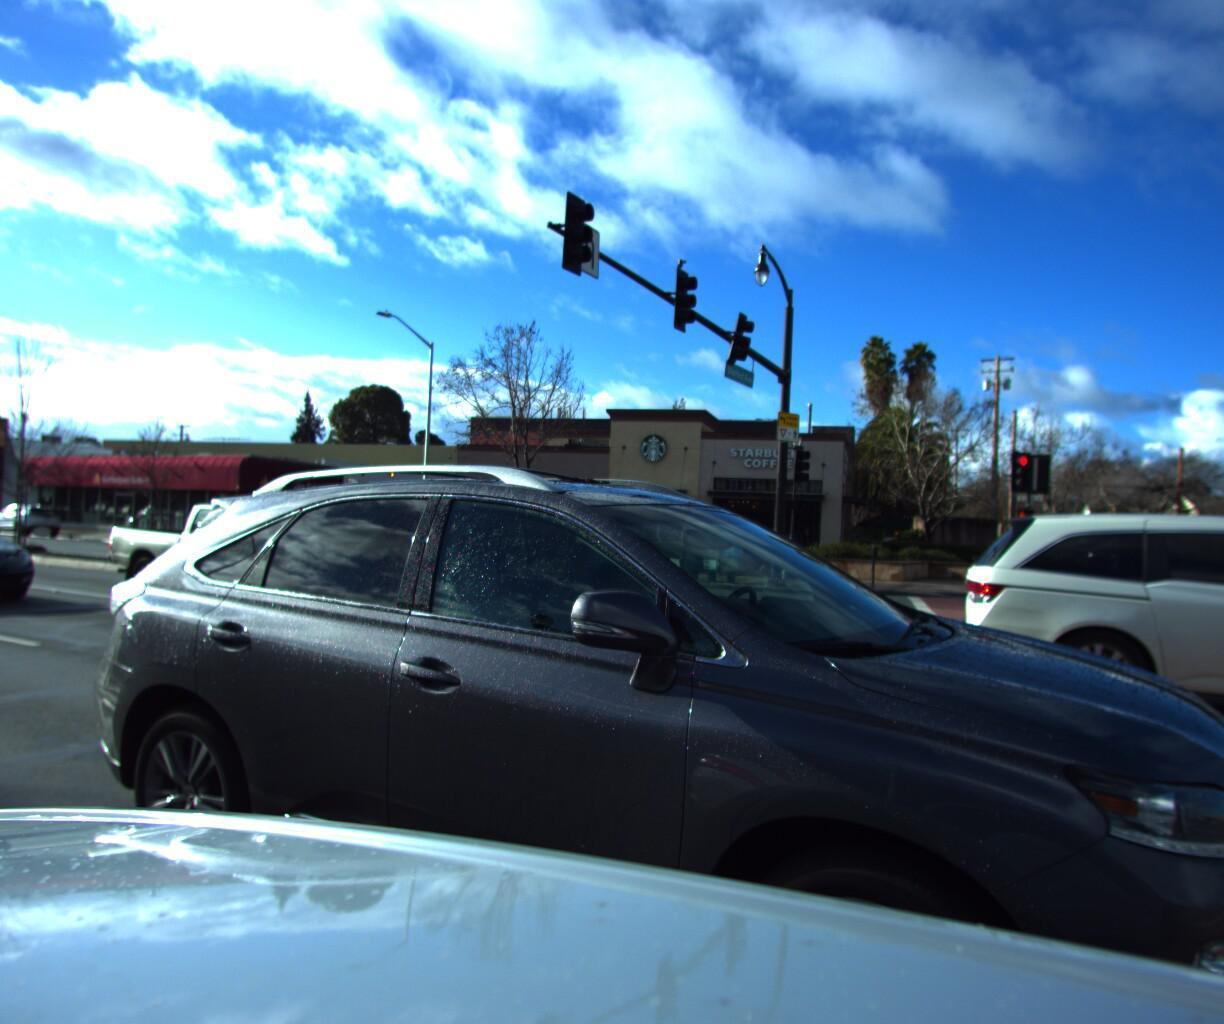car: (25, 455, 1224, 1024), (935, 499, 1224, 782), (91, 491, 379, 615), (0, 492, 55, 613), (0, 496, 70, 532)
